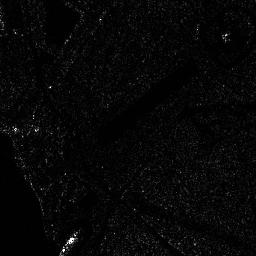ship: (54, 230, 78, 256)
